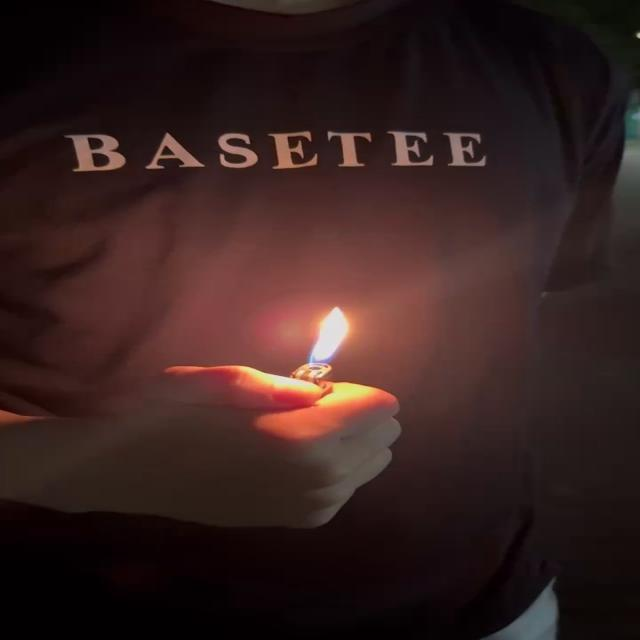Fire: (309, 306, 355, 374)
